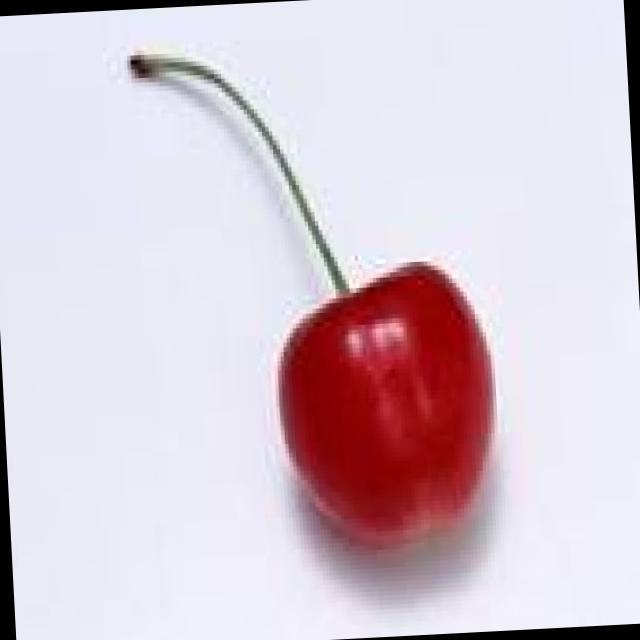Cherry: (84, 8, 544, 596)
